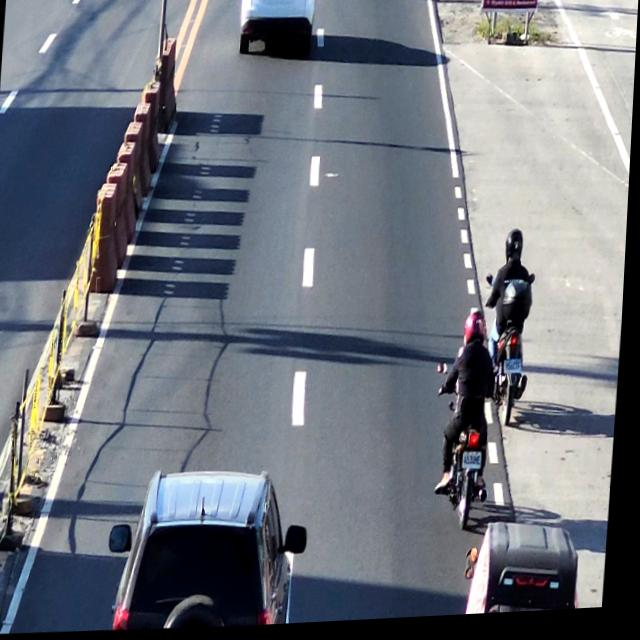Car: (119, 467, 304, 634), (438, 315, 501, 542), (486, 234, 543, 432), (237, 0, 321, 66)
License-Plate: (465, 454, 489, 474), (507, 363, 528, 378)
Tricycle: (468, 519, 592, 620)
